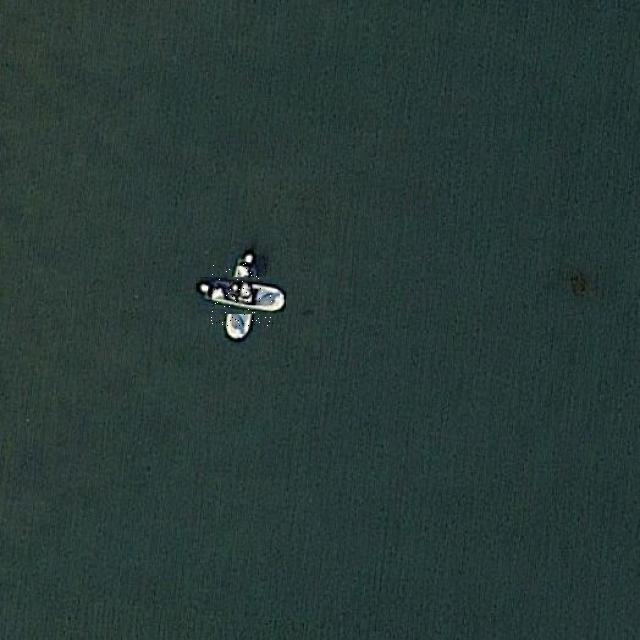boat: (209, 263, 273, 327)
